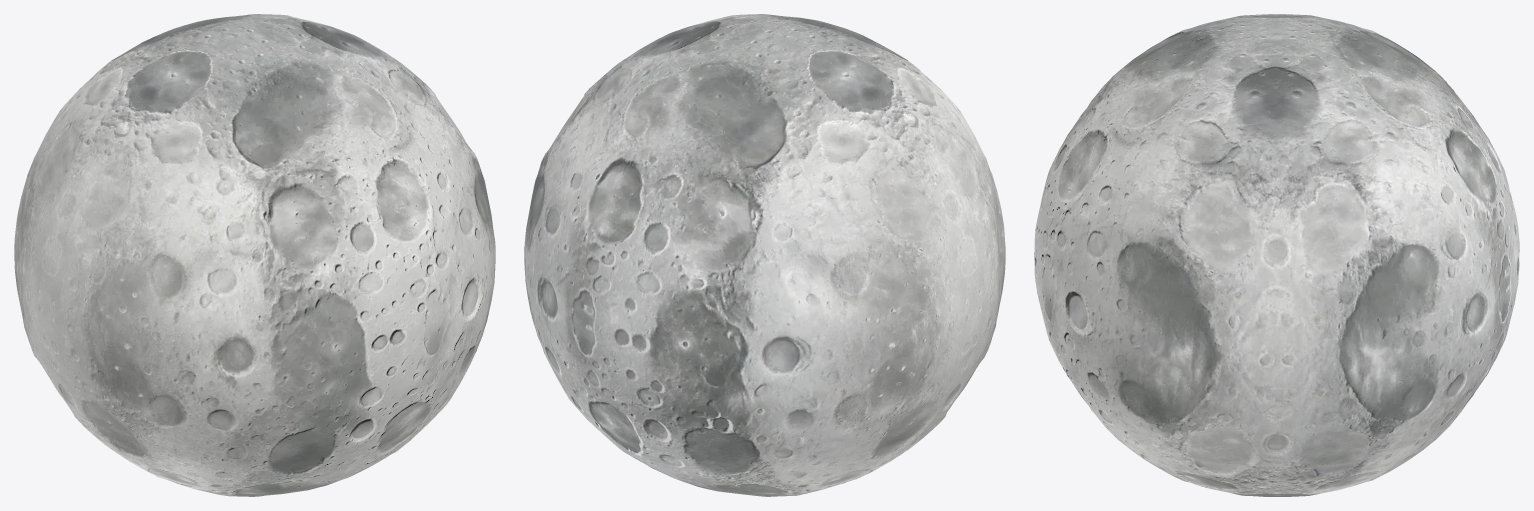
The model's file is fake-moon.glb.
3 renders of one model, left to right at view 1: azimuth 30°, elevation 25°; view 2: azimuth 150°, elevation 25°; view 3: azimuth 270°, elevation 25°, orthographic.
Size of the model in its own units: 1.9 by 1.89 by 1.9.
1 material, 1 textured.
